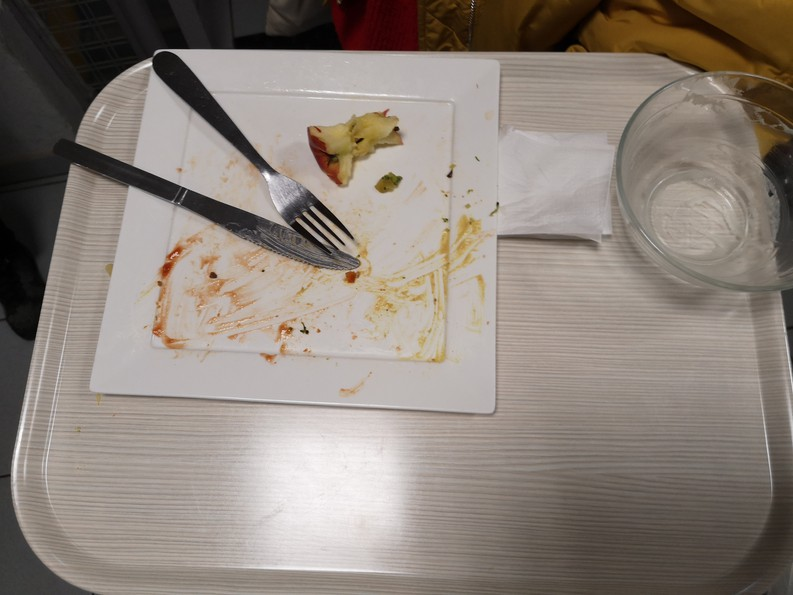cutlery: (49, 135, 381, 285)
orga: (300, 105, 407, 197)
trash: (489, 117, 627, 258)
